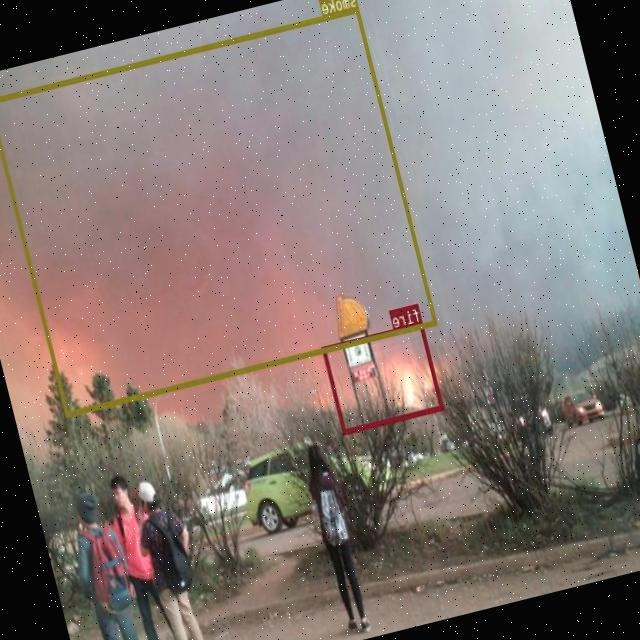fire: (322, 321, 444, 433)
smoke: (0, 4, 438, 415)
